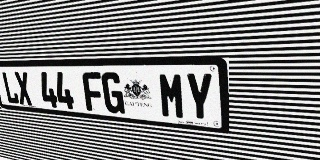4: (53, 72, 75, 109), (38, 72, 58, 108)
F: (82, 72, 105, 112)
G: (101, 72, 125, 114)
L: (1, 72, 20, 104)
M: (158, 72, 186, 120)
X: (14, 72, 33, 106)
Y: (185, 73, 214, 122)
